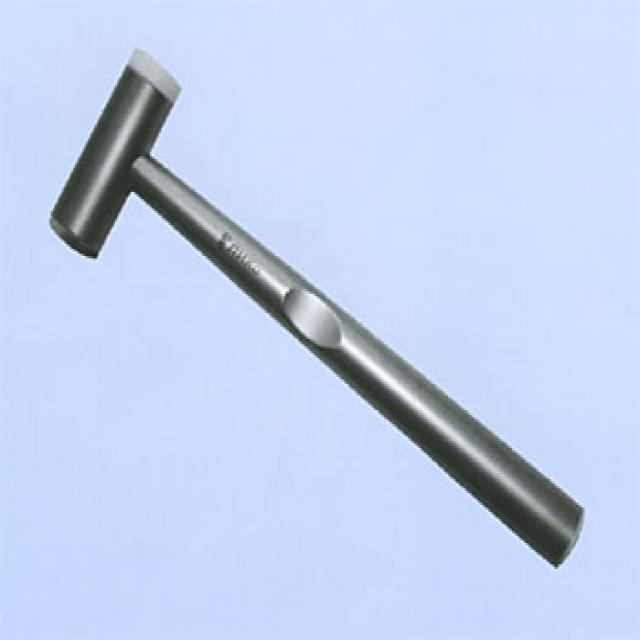hammer: (38, 29, 599, 586)
